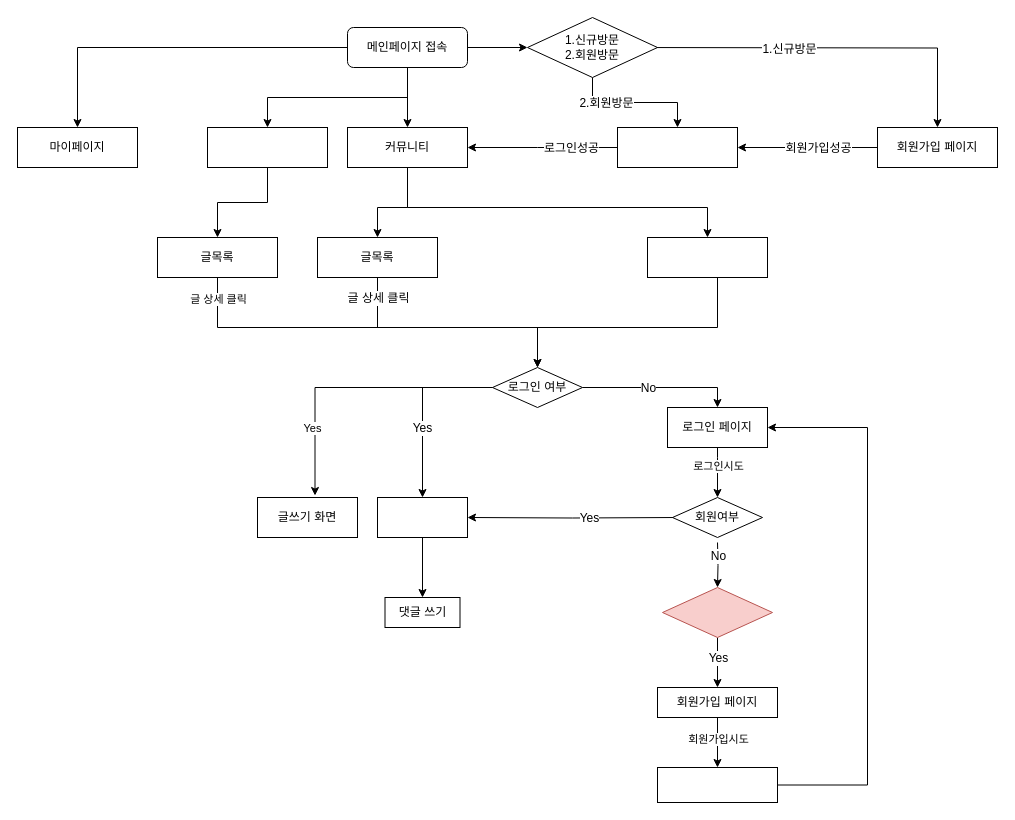
This 1015x820 diagram has some shape labels left out. Here are the shapes that lost their labels. From the top down, the centre of each, then its label:
point 267,147: 정보게시판
point 677,147: 로그인페이지
point 707,257: 글쓰기
point 422,517: 글 상세 보기
point 717,612: 회원가입 희망
point 717,784: 회원가입 완료 페이지
